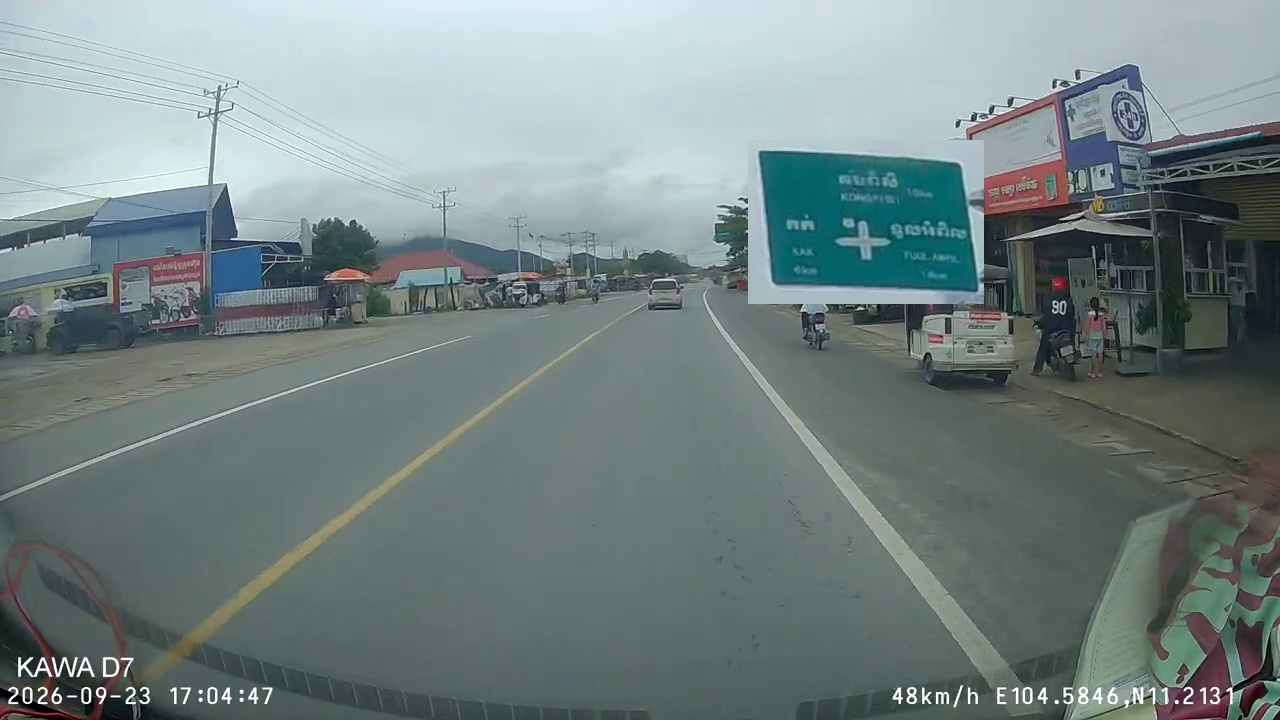direction_sign: (748, 140, 984, 304)
